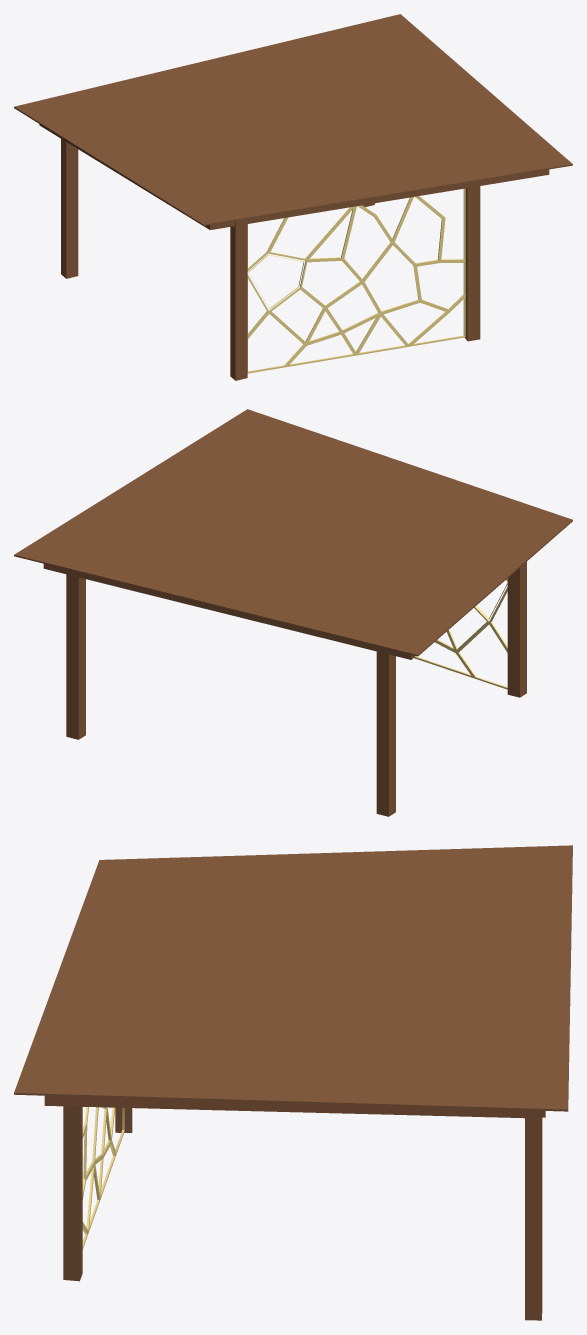
The model's file is WoodHud.fbx.
3 renders of one model, top to bottom at view 1: azimuth 30°, elevation 25°; view 2: azimuth 150°, elevation 25°; view 3: azimuth 270°, elevation 25°, orthographic. The views are drawn at different scales.
Parts seen in each view (by area): view 1: WoodHud; view 2: WoodHud; view 3: WoodHud.
Boxes of the visible parts, x1=… form: WoodHud: x1=14, y1=14, x2=572, y2=380; WoodHud: x1=14, y1=409, x2=572, y2=816; WoodHud: x1=14, y1=845, x2=572, y2=1320.
Size of the model in its own units: 976 by 411 by 873.
